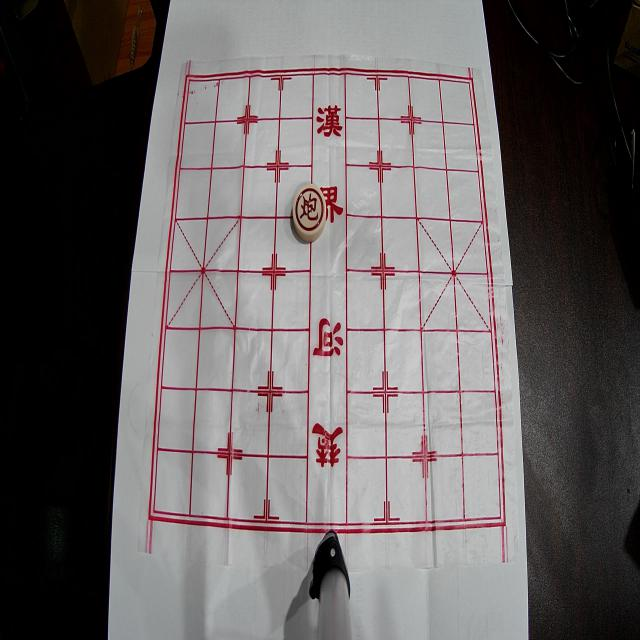red-cannon: (293, 184, 326, 241)
